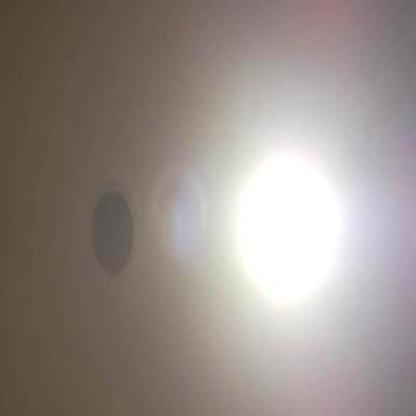light_off: (80, 157, 146, 298)
